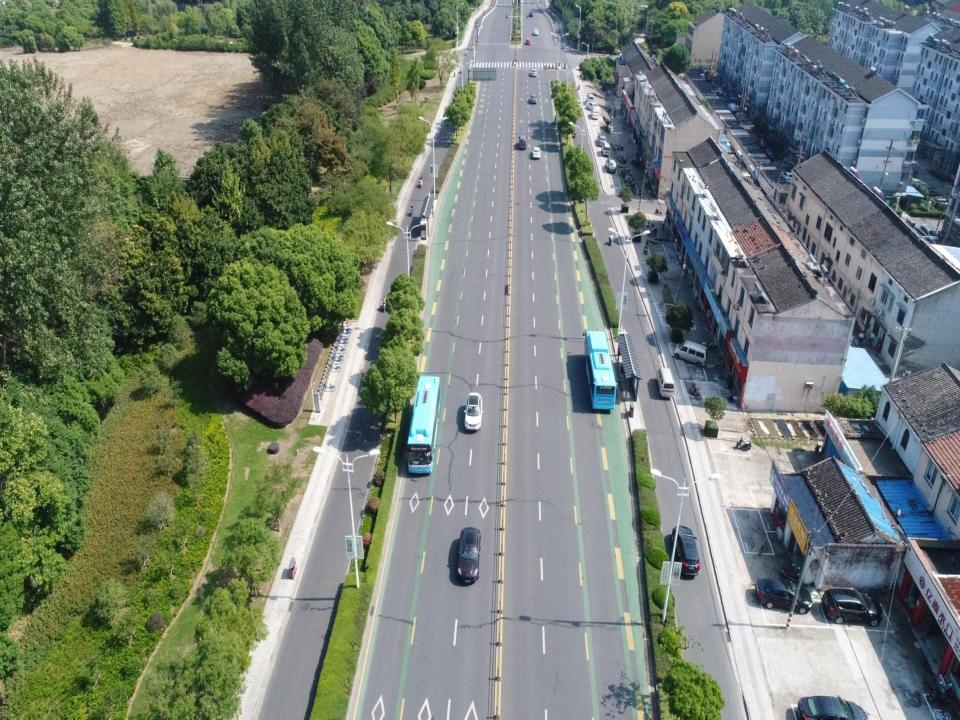bus: (404, 372, 441, 475), (582, 327, 616, 412)
car: (818, 583, 884, 629), (755, 575, 813, 613), (796, 695, 868, 720), (671, 524, 700, 578), (456, 525, 480, 586), (462, 392, 482, 432), (605, 158, 617, 172), (585, 101, 599, 112), (531, 145, 541, 159), (596, 134, 606, 146), (590, 109, 599, 120), (530, 94, 538, 104), (531, 68, 537, 77), (524, 38, 530, 46), (533, 27, 539, 35), (528, 10, 533, 16)
van: (673, 339, 707, 365), (658, 367, 674, 399), (517, 135, 528, 150), (585, 92, 594, 105), (602, 142, 610, 156)
